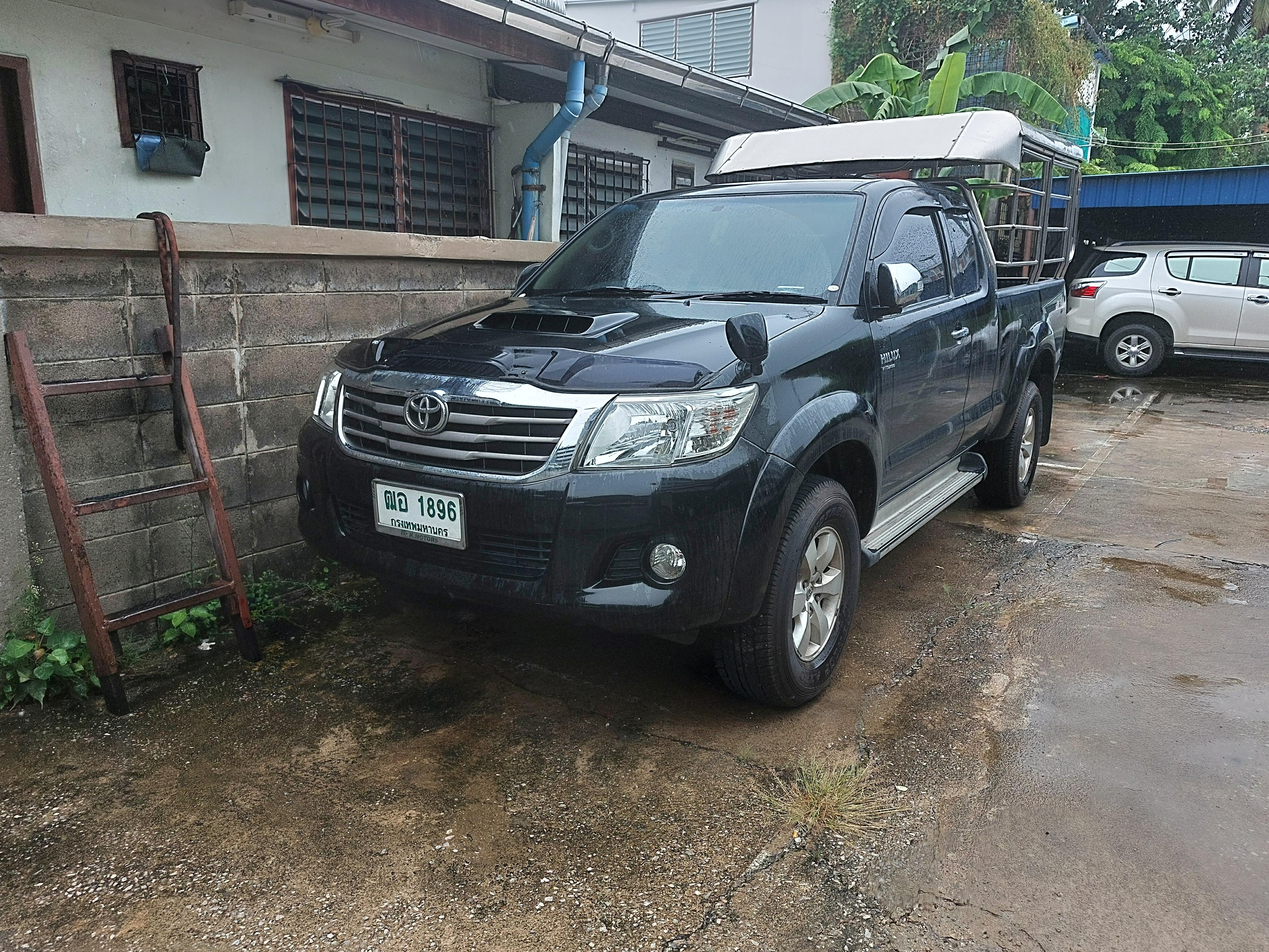license-plate: (370, 476, 473, 553)
